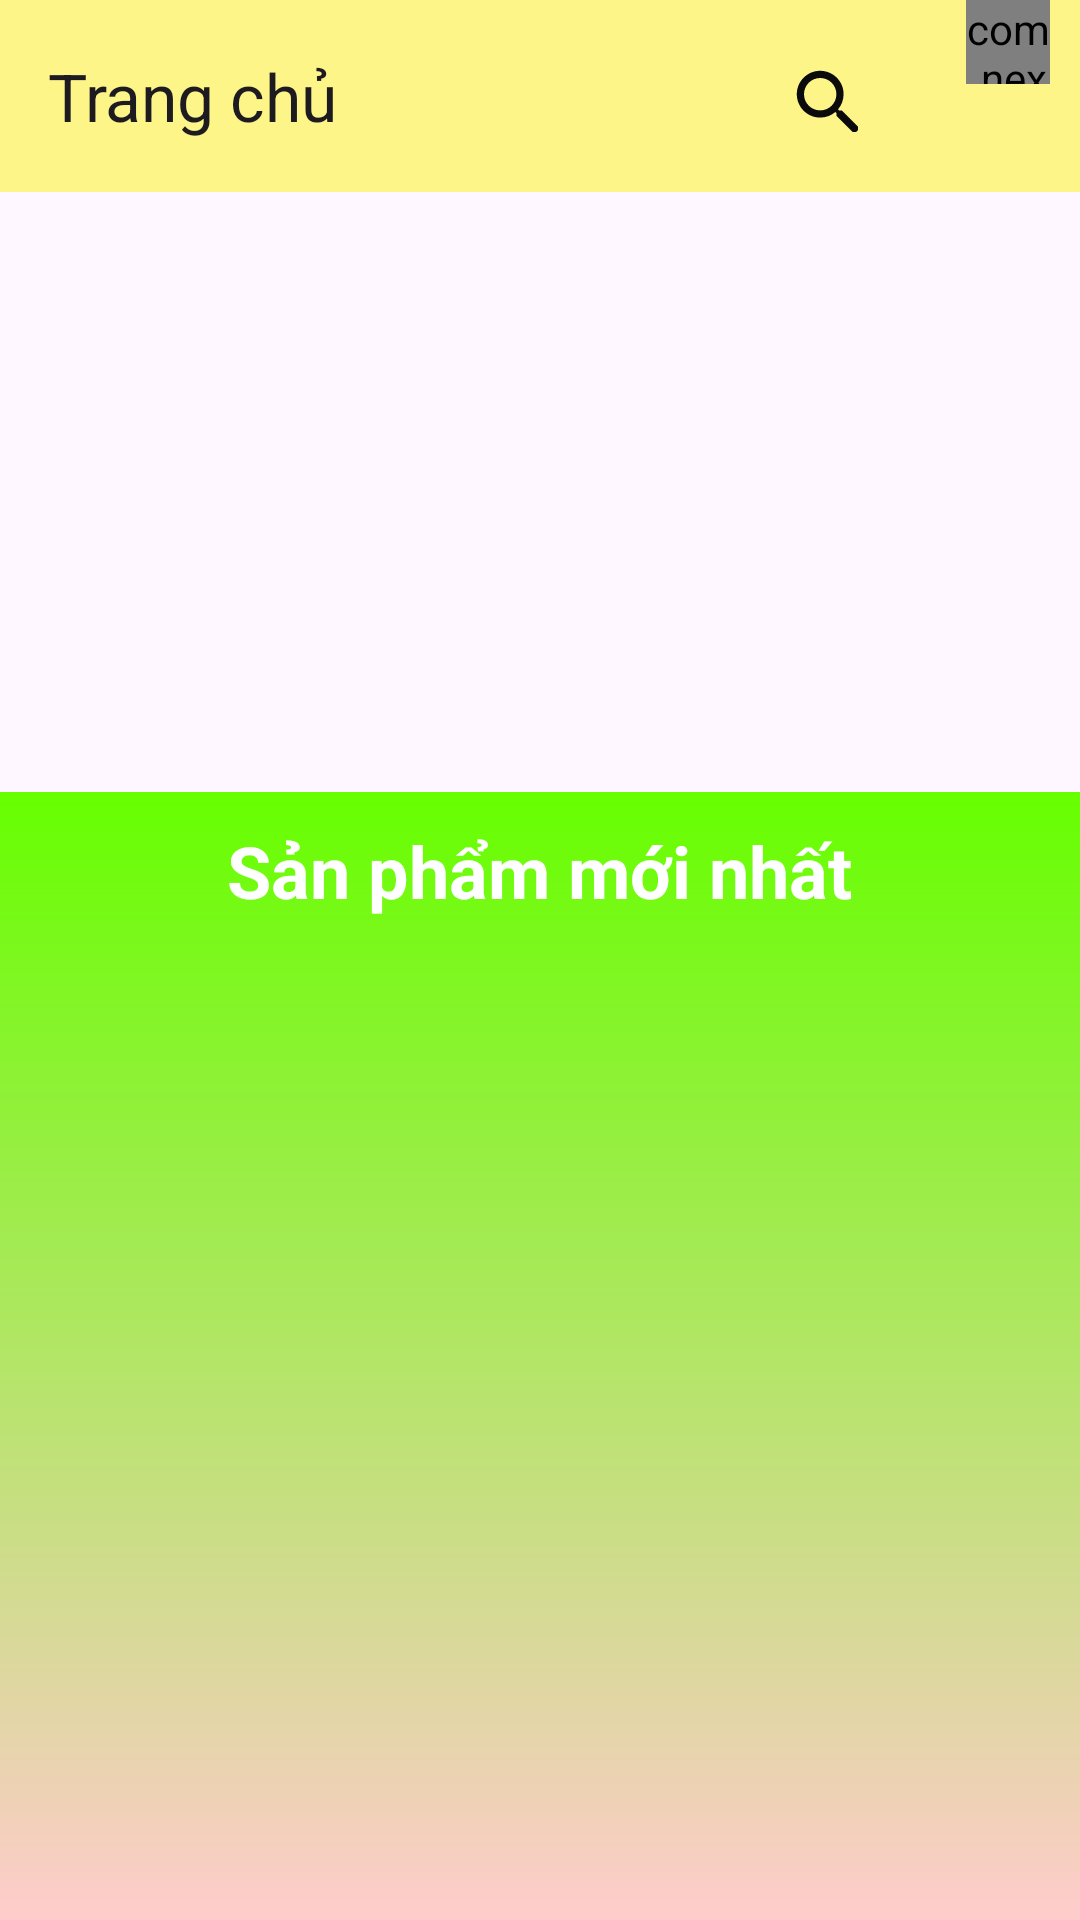

Screen size 1080w x 1920h. Icon name, then its center in pixels as (x,y):
search: (827,101)
